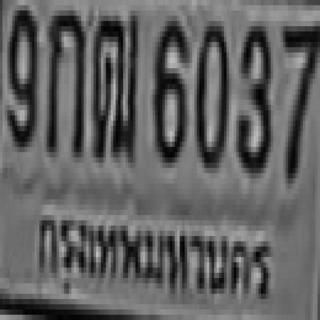A01: (44, 5, 84, 152)
A18: (91, 5, 138, 157)
N00: (194, 16, 227, 163)
N03: (234, 21, 268, 168)
N06: (153, 16, 185, 157)
N07: (280, 21, 320, 178)
N09: (5, 5, 34, 142)
P04: (32, 196, 274, 314)
